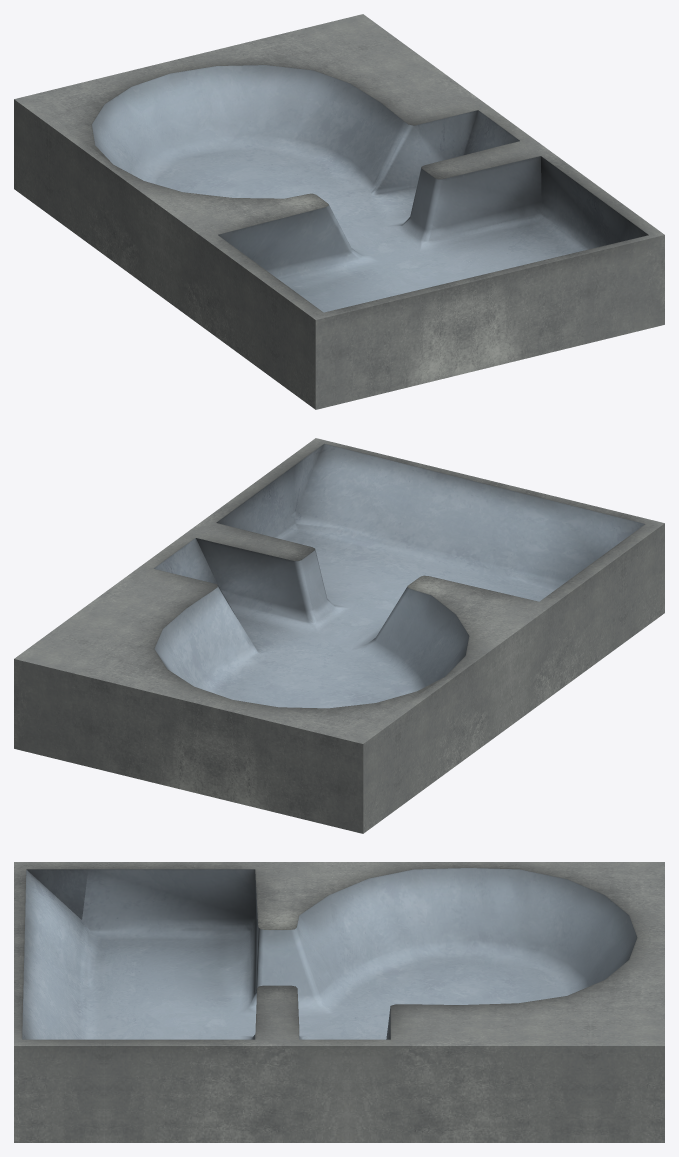
Rendered from Ramp02.fbx.
3 renders of one model, top to bottom at view 1: azimuth 30°, elevation 25°; view 2: azimuth 150°, elevation 25°; view 3: azimuth 270°, elevation 25°, orthographic. The views are drawn at different scales.
Parts seen in each view (by area): view 1: Ramp02; view 2: Ramp02; view 3: Ramp02.
Part boxes in pixels (x1,y1,x2,y2): Ramp02: (14,14,664,409); Ramp02: (14,438,664,833); Ramp02: (14,862,664,1142).
Size of the model in its own units: 16.05 by 3.95 by 24.02.
